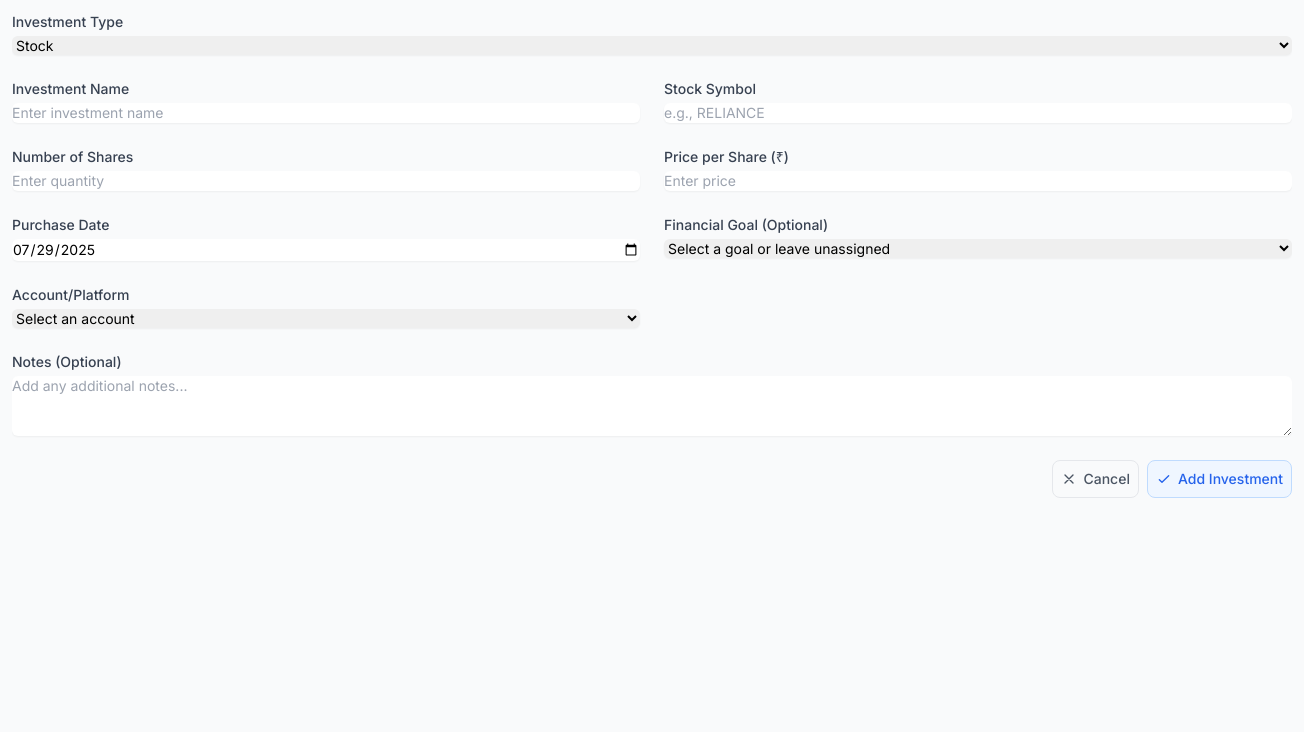
InvestmentForm › Calculated Values Display › shows calculated total for unit-based investments
Fill units and price
Type "10" into the number field labelled "Number of Shares" at (326, 181), box [12, 171, 640, 191]
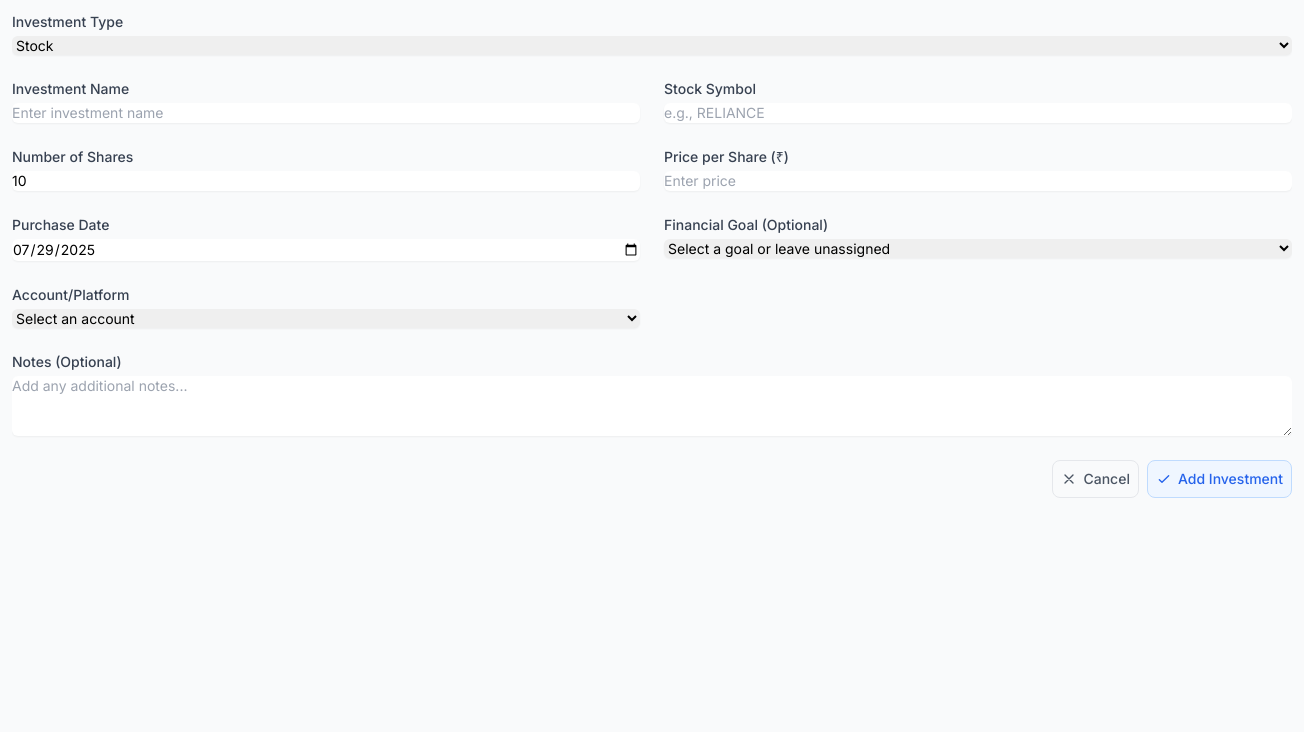
Type "2500" into the number field labelled "Price per Share (₹)" at (978, 181), box [664, 171, 1292, 191]
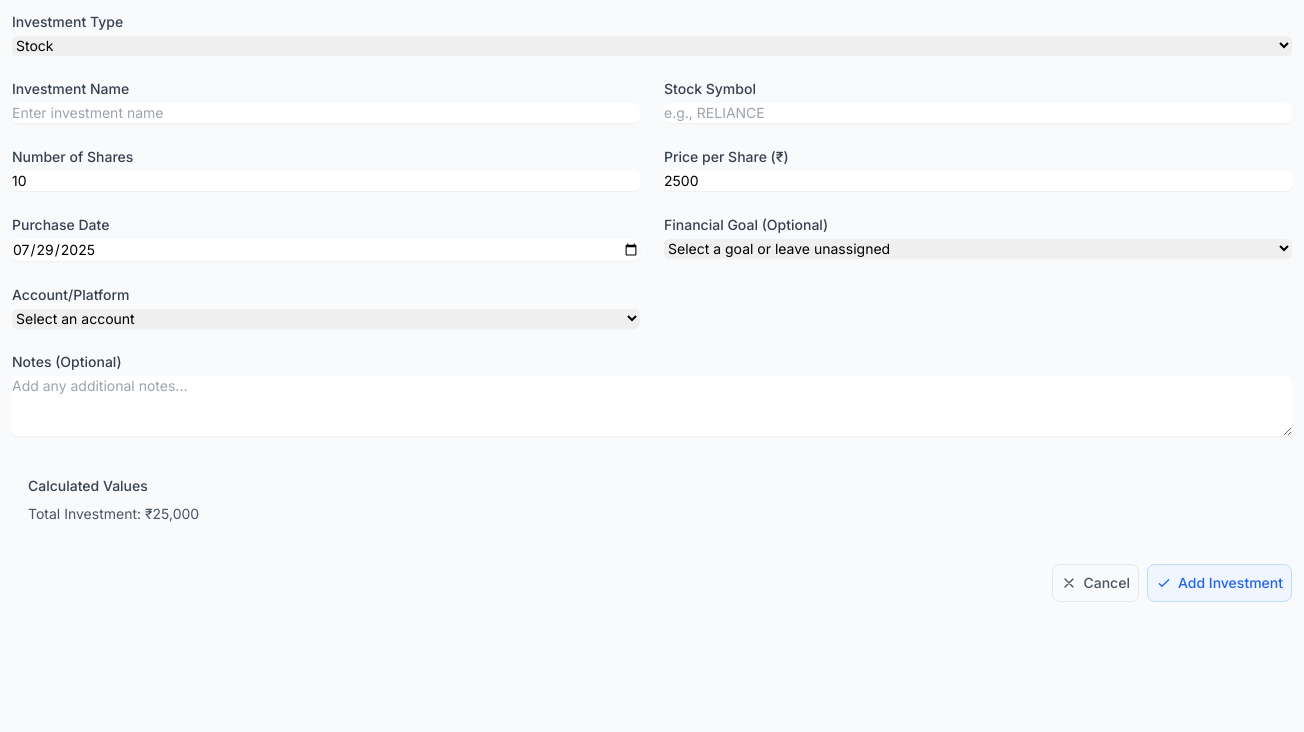
Now the text "Total Investment: ₹25,000" is shown, box [28, 505, 199, 522]
